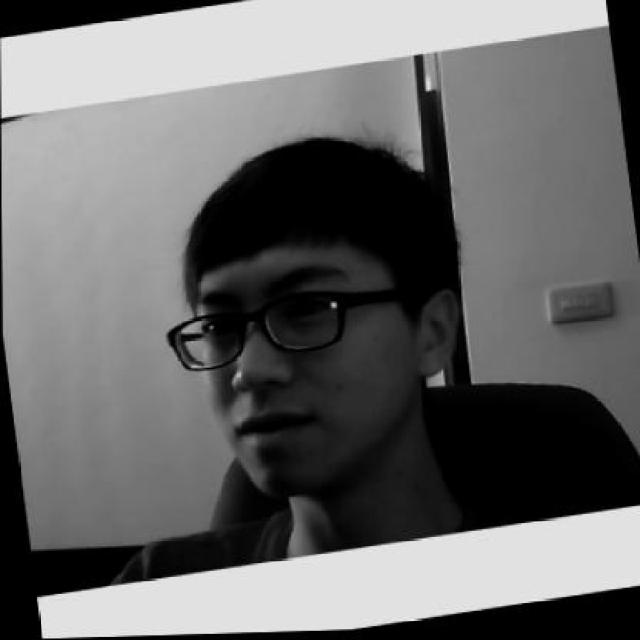attentif: (145, 120, 477, 512)
